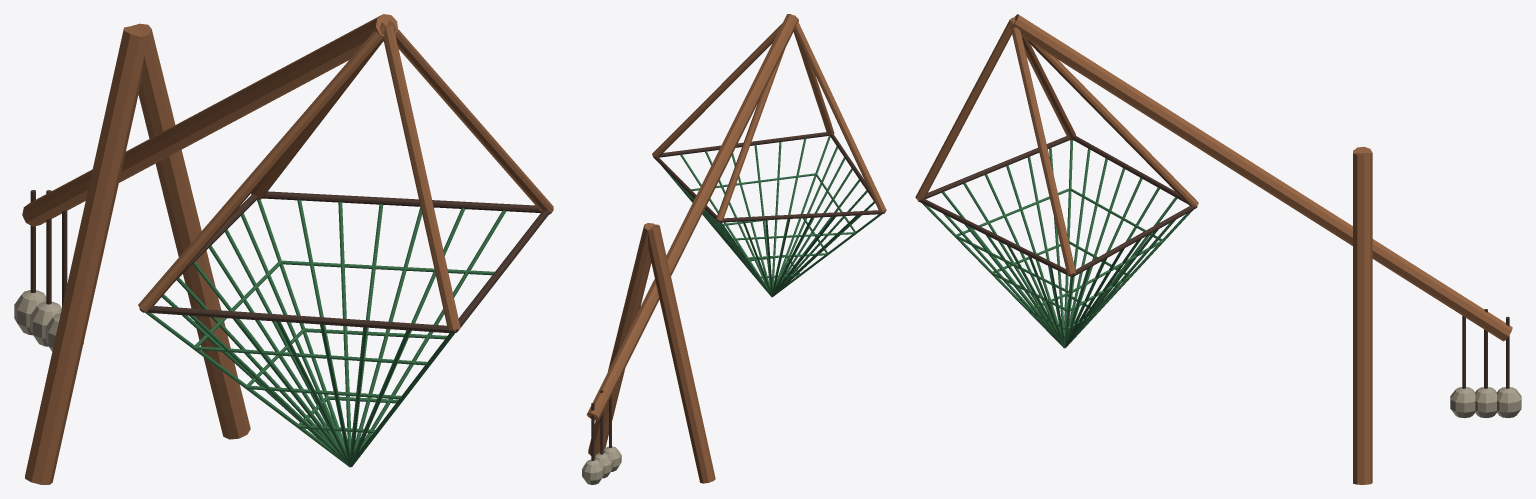
Rendered from 027_chinese_fishing_net.glb.
3 views of the same model, side by side, from view 1: azimuth 30°, elevation 25°; view 2: azimuth 150°, elevation 25°; view 3: azimuth 270°, elevation 25° (orthographic). The views are drawn at different scales.
Parts seen in each view (by area): view 1: Chinese fishing net; view 2: Chinese fishing net; view 3: Chinese fishing net.
Part boxes in pixels (bbox=[...]): Chinese fishing net: bbox=[14, 14, 553, 484]; Chinese fishing net: bbox=[582, 14, 886, 484]; Chinese fishing net: bbox=[915, 14, 1521, 484].
Size of the model in its own units: 4.6 by 6.63 by 8.35.
